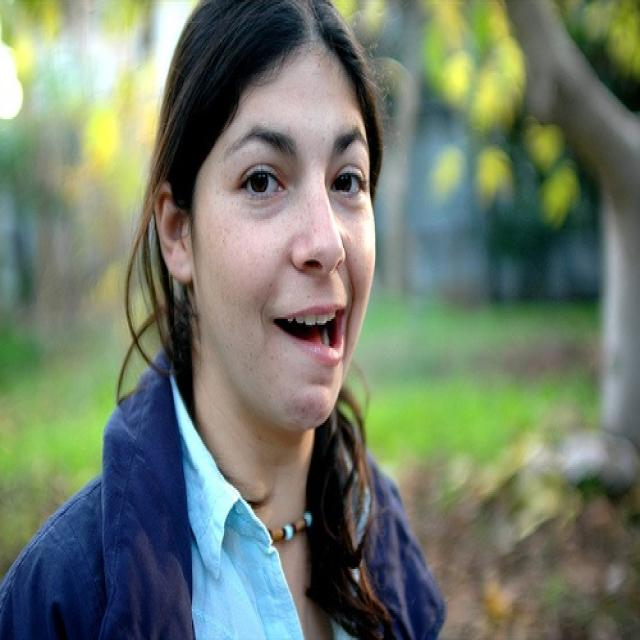person: (4, 1, 449, 639)
